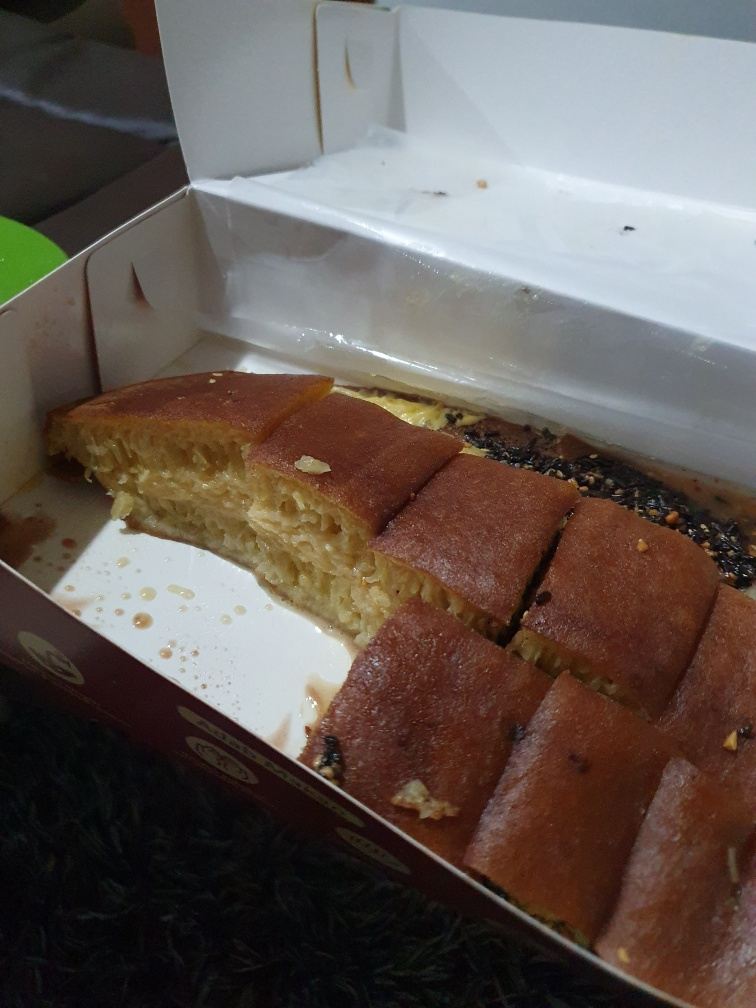martabak manis: (301, 581, 535, 883), (487, 657, 663, 946), (67, 351, 261, 578), (540, 464, 697, 721), (371, 426, 550, 629), (242, 391, 375, 620)
